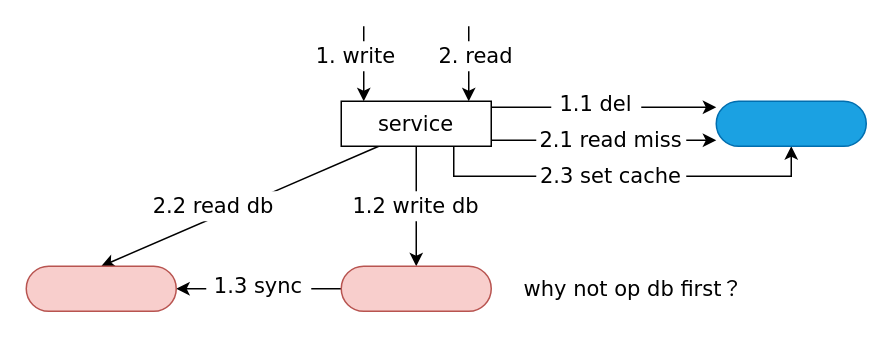
Image size: 893x338. Some labels were removed from this diagram. Here are the shapes that lost their labels. From the top down, the centre of each, then its label:
At [790,123]: "cache".
At [100,288]: "db-S".
At [415,288]: "db-M".
